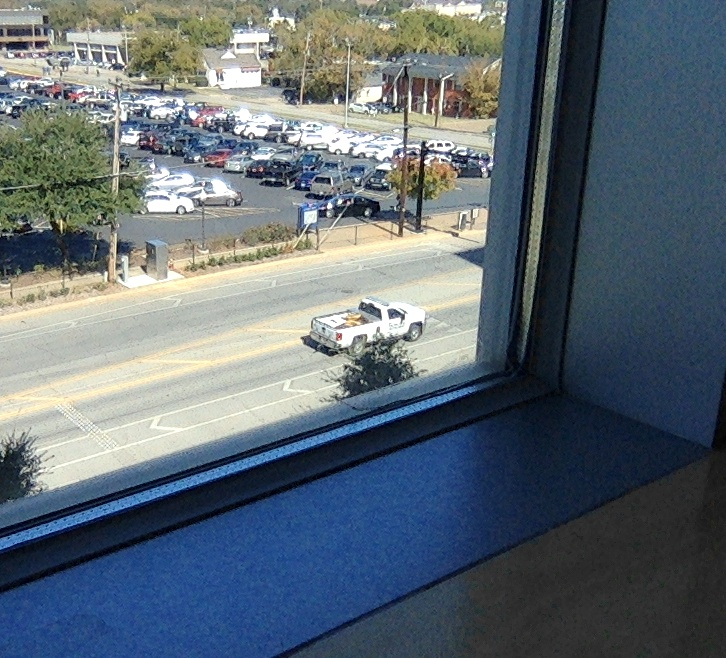car: (300, 300, 426, 358)
